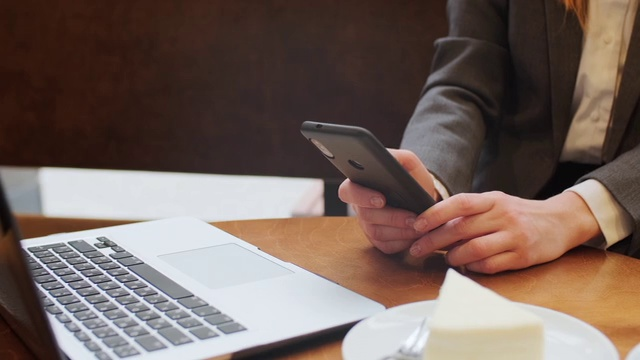phone: (296, 113, 445, 231)
